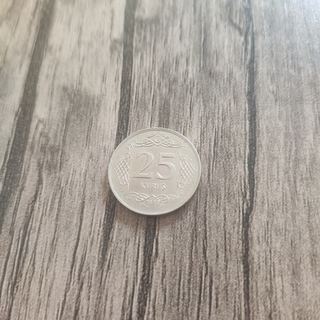25KURUS: (106, 125, 202, 216)
